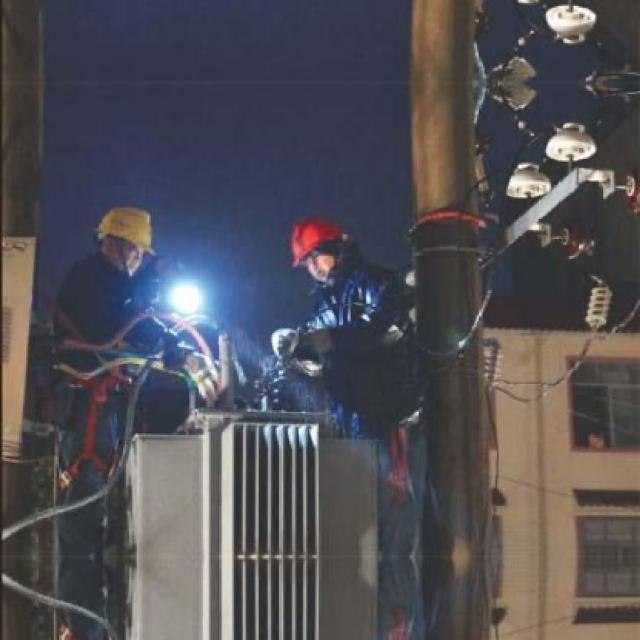helmet: (91, 200, 160, 278), (281, 218, 357, 282)
